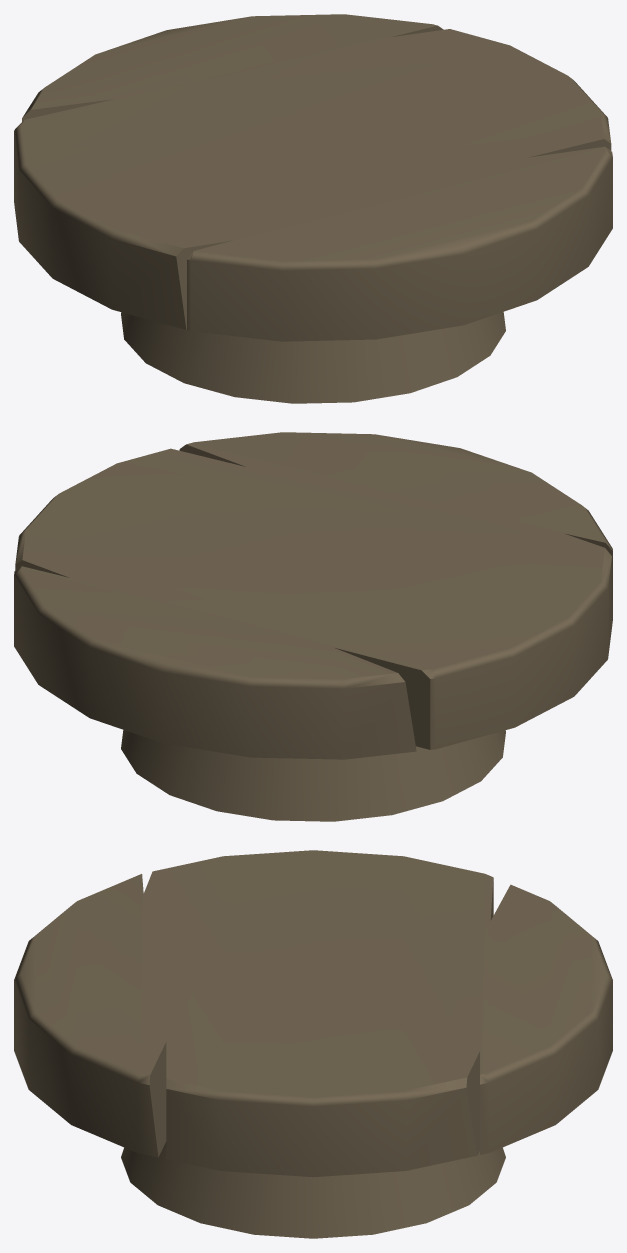
The model's file is SM_Table_Round.fbx.
The picture shows the model from 3 angles, top to bottom: view 1: azimuth 30°, elevation 25°; view 2: azimuth 150°, elevation 25°; view 3: azimuth 270°, elevation 25°; orthographic projection.
Visible parts, largest first — view 1: polySurface8; view 2: polySurface8; view 3: polySurface8.
Boxes of the visible parts, box(x1,y1,x2,y2) form: polySurface8: box(14, 14, 612, 403); polySurface8: box(14, 432, 612, 821); polySurface8: box(14, 850, 612, 1238).
Bounding box in the file's own units: 148 × 50 × 148.
